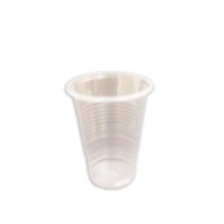glass: (60, 66, 160, 192)
